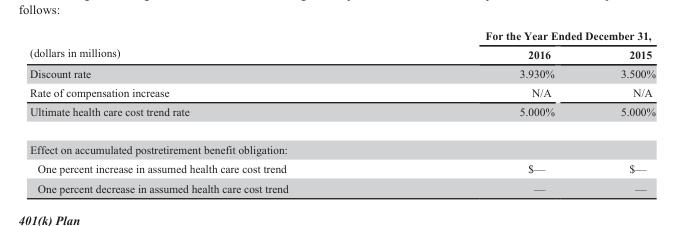table: (29, 28, 655, 194)
table column: (29, 28, 386, 194), (386, 28, 586, 194), (586, 28, 655, 194)
table column header: (29, 28, 655, 63)
table projected row header: (29, 130, 655, 158)
table row: (29, 101, 655, 130), (29, 130, 655, 158), (29, 158, 655, 178), (29, 44, 655, 63), (29, 63, 655, 82), (29, 82, 655, 101), (29, 28, 655, 44), (29, 178, 655, 194)
table spanning cell: (29, 28, 386, 63), (386, 28, 655, 44)
